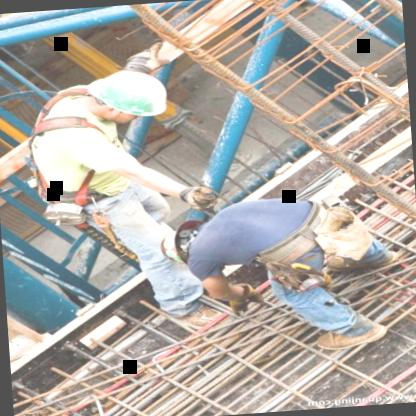helmet: (70, 64, 184, 136), (150, 214, 218, 272)
